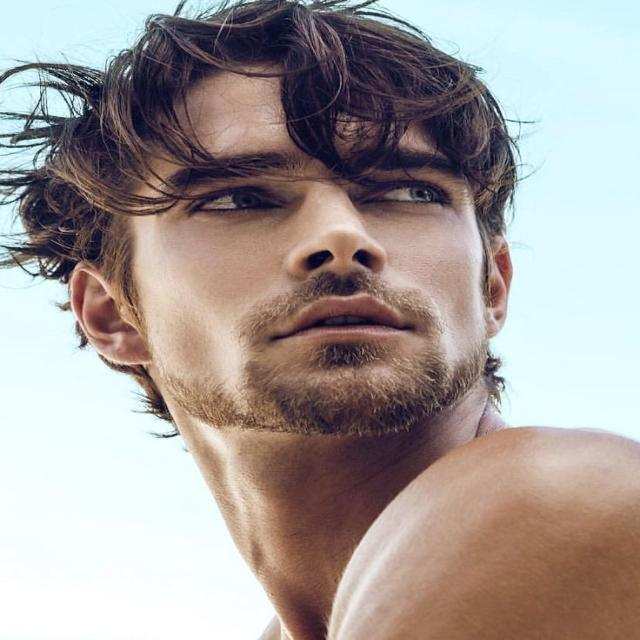front: (139, 122, 485, 388)
